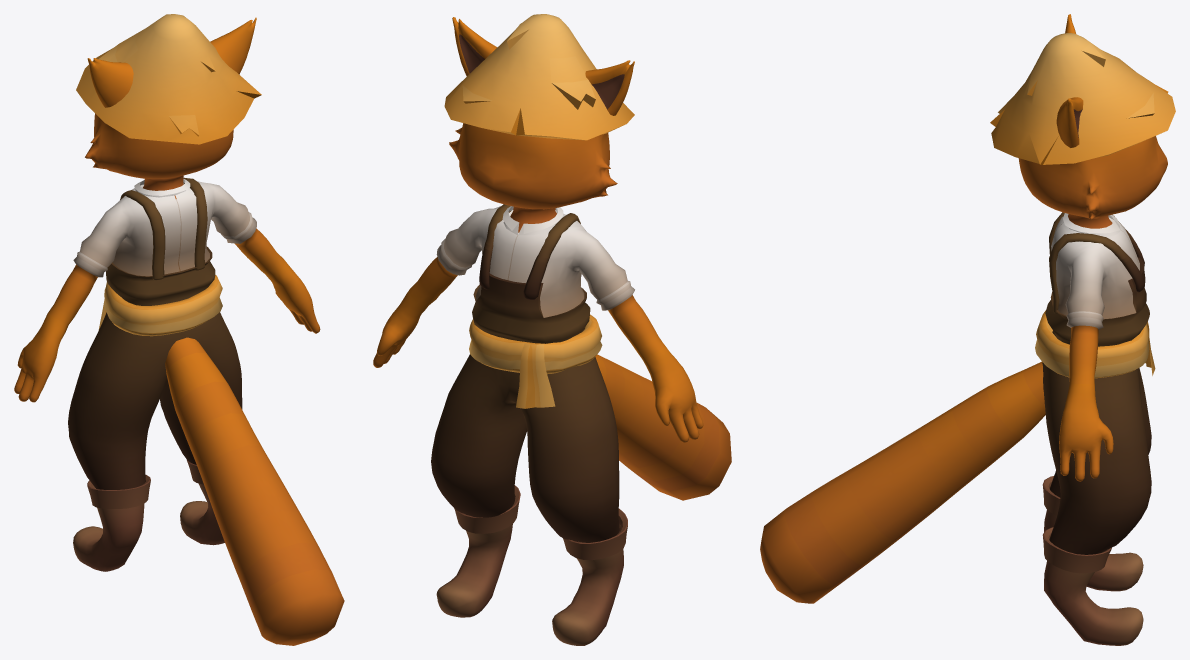
The model's file is obj_CharacterFarmerBody 1.fbx.
3 views of the same model, side by side, from view 1: azimuth 30°, elevation 25°; view 2: azimuth 150°, elevation 25°; view 3: azimuth 270°, elevation 25° (orthographic). The views are drawn at different scales.
Parts seen in each view (by area): view 1: obj_CharacterFarmerBody; view 2: obj_CharacterFarmerBody; view 3: obj_CharacterFarmerBody.
Boxes of the visible parts, box(x1,y1,x2,y2) form: obj_CharacterFarmerBody: box(14, 14, 344, 645); obj_CharacterFarmerBody: box(373, 14, 731, 645); obj_CharacterFarmerBody: box(760, 14, 1175, 645).
Bounding box in the file's own units: 602 × 1063 × 694.
